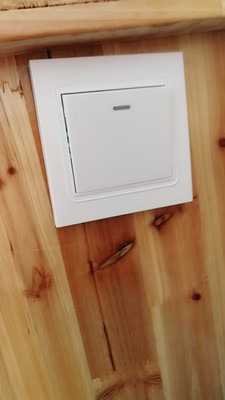switch: (55, 77, 186, 196)
